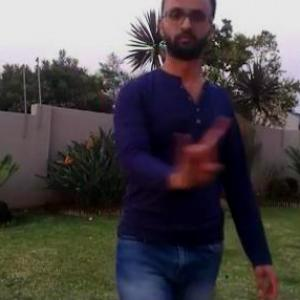takeoff-hand: (172, 111, 229, 188)
